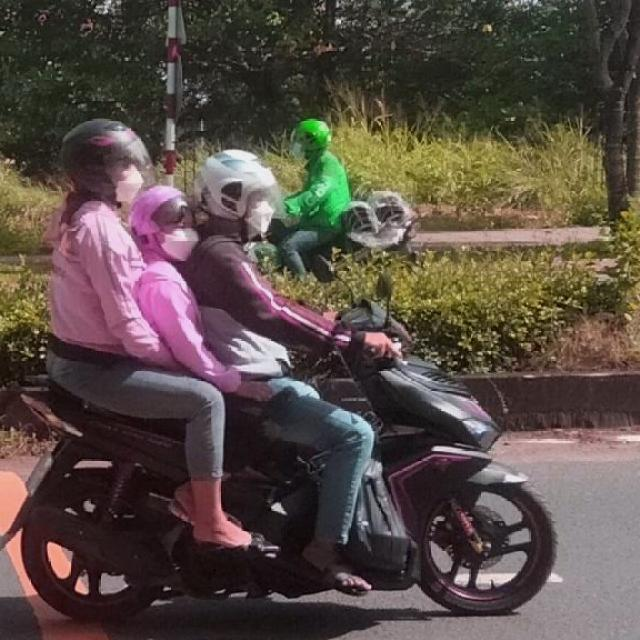Helmet: (192, 146, 281, 236), (58, 116, 146, 207), (127, 183, 200, 261), (291, 118, 331, 160)
